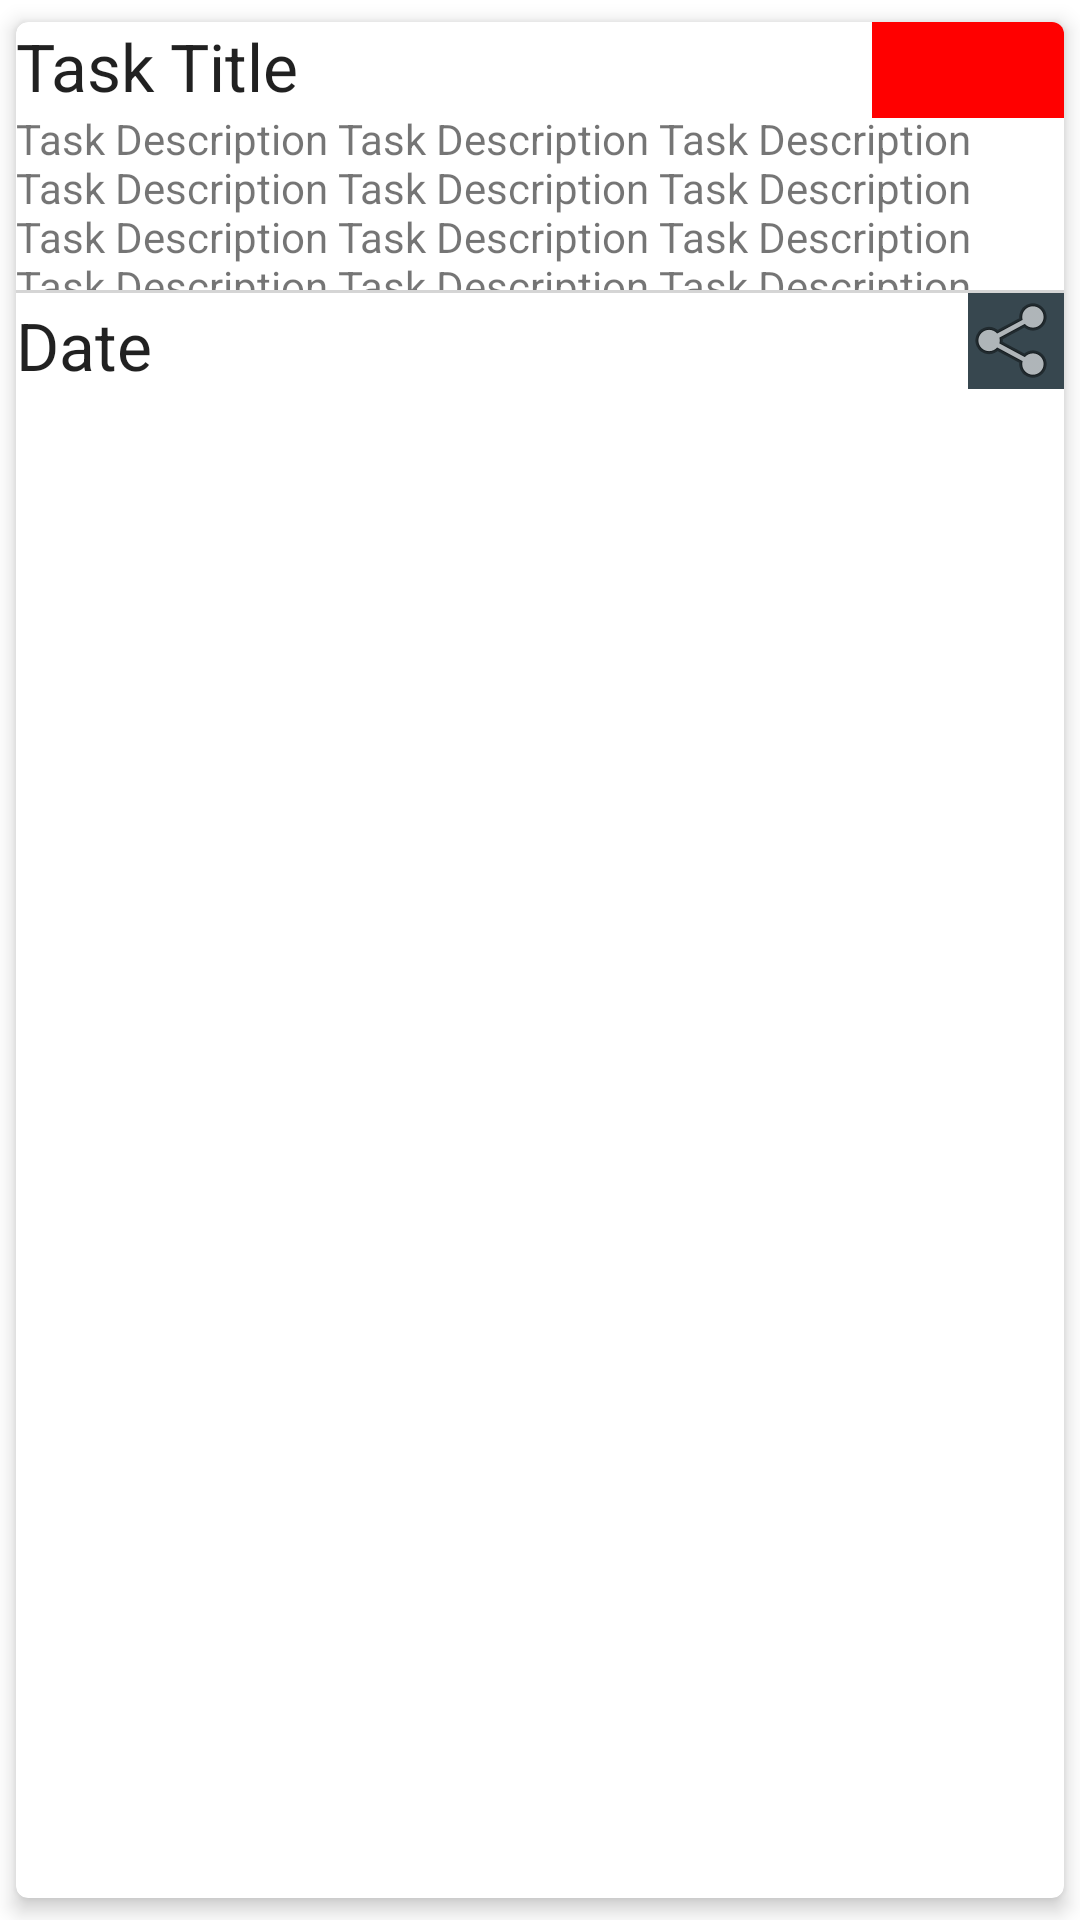

Named icons in this screenshot (1080px×1920px) and their centers, (x,y):
share: (1016,341)
